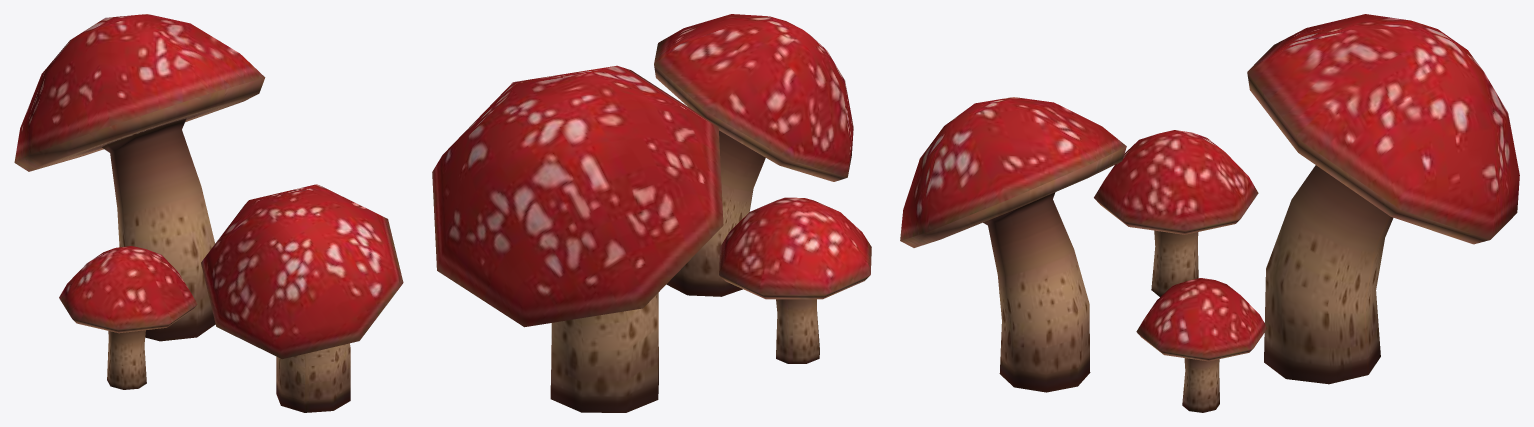
File: 0-Mushroom.obj
3 renders of one model, left to right at view 1: azimuth 30°, elevation 25°; view 2: azimuth 150°, elevation 25°; view 3: azimuth 270°, elevation 25°, orthographic. The views are drawn at different scales.
Parts seen in each view (by area): view 1: Mushroom_Group_OBJ1:polySurface1; view 2: Mushroom_Group_OBJ1:polySurface1; view 3: Mushroom_Group_OBJ1:polySurface1.
Part boxes in pixels (bbox=[...]): Mushroom_Group_OBJ1:polySurface1: bbox=[14, 14, 403, 412]; Mushroom_Group_OBJ1:polySurface1: bbox=[432, 14, 871, 412]; Mushroom_Group_OBJ1:polySurface1: bbox=[900, 14, 1519, 412].
Bounding box in the file's own units: 0.9676 × 0.8465 × 1.44.
Materials: 1 (1 with a texture image).
